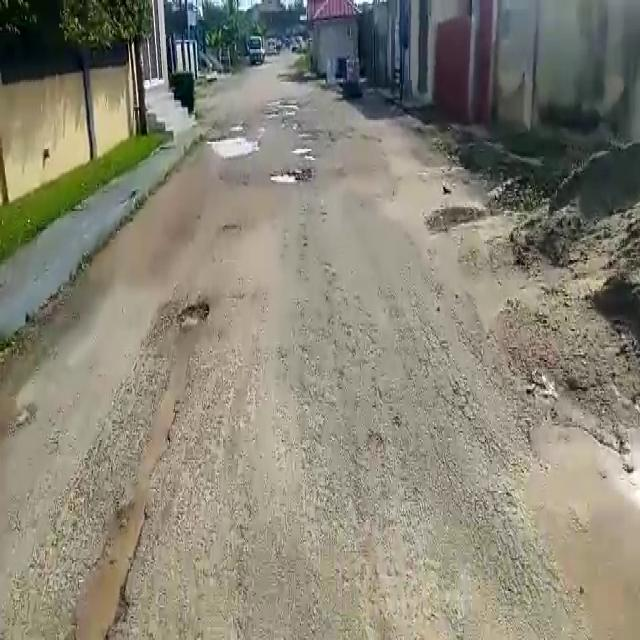Pothole: (208, 128, 258, 157), (173, 295, 212, 327), (269, 169, 305, 187), (294, 145, 318, 156)
